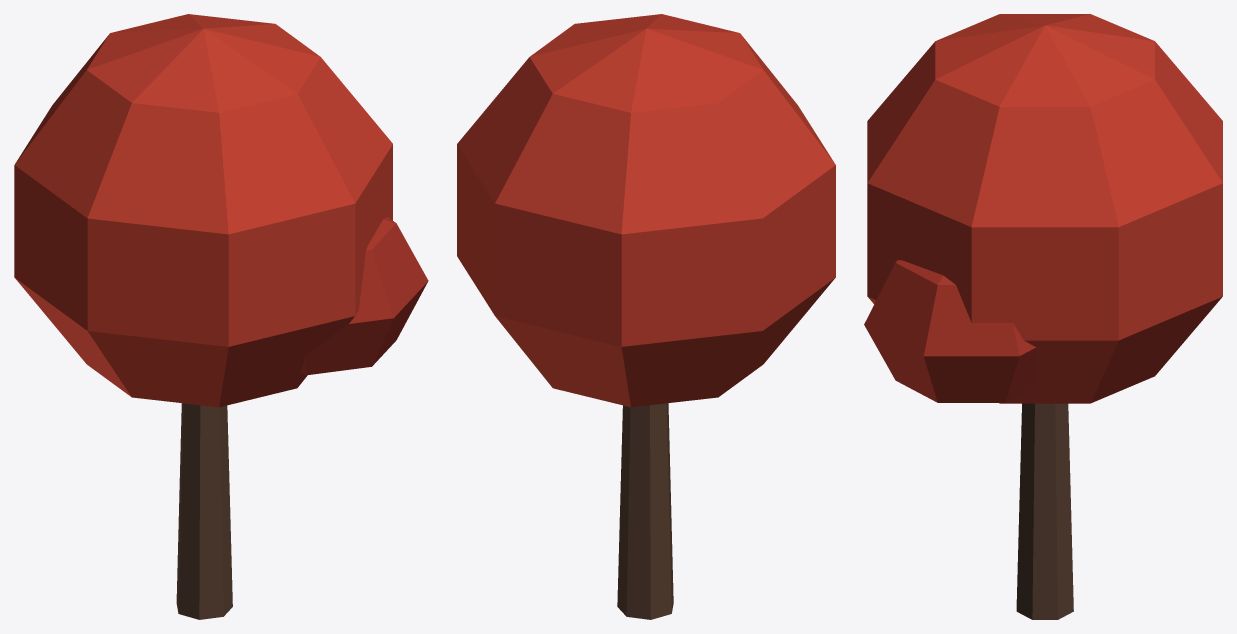
File: tree_autumn_red.glb
3 renders of one model, left to right at view 1: azimuth 30°, elevation 25°; view 2: azimuth 150°, elevation 25°; view 3: azimuth 270°, elevation 25°, orthographic.
Parts seen in each view (by area): view 1: tree_autumn_red; view 2: tree_autumn_red; view 3: tree_autumn_red.
Part boxes in pixels (x1,y1,x2,y2): tree_autumn_red: [14, 14, 428, 619]; tree_autumn_red: [457, 14, 835, 619]; tree_autumn_red: [864, 14, 1222, 619].
Size of the model in its own units: 2.01 by 3.5 by 1.95.
